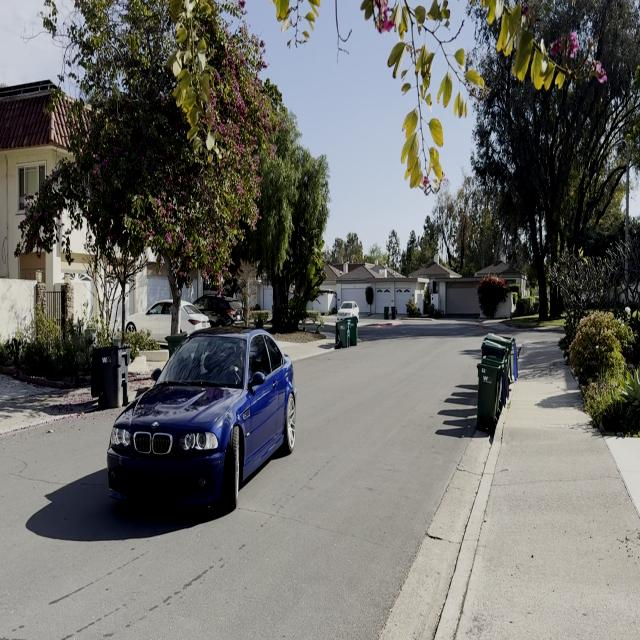Carbeetle: (105, 307, 308, 525)
